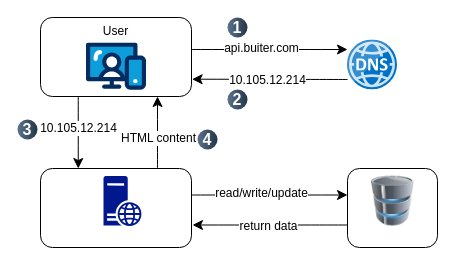
The diagram is 455 pixels wide and 265 high, and some of its shapes have lost their labels. The shapes that lost their labels are listed below. From the top down, each one's centre as x and y in pixels, then its label:
At (122,201): "Web server".
At (392,201): "Database".
